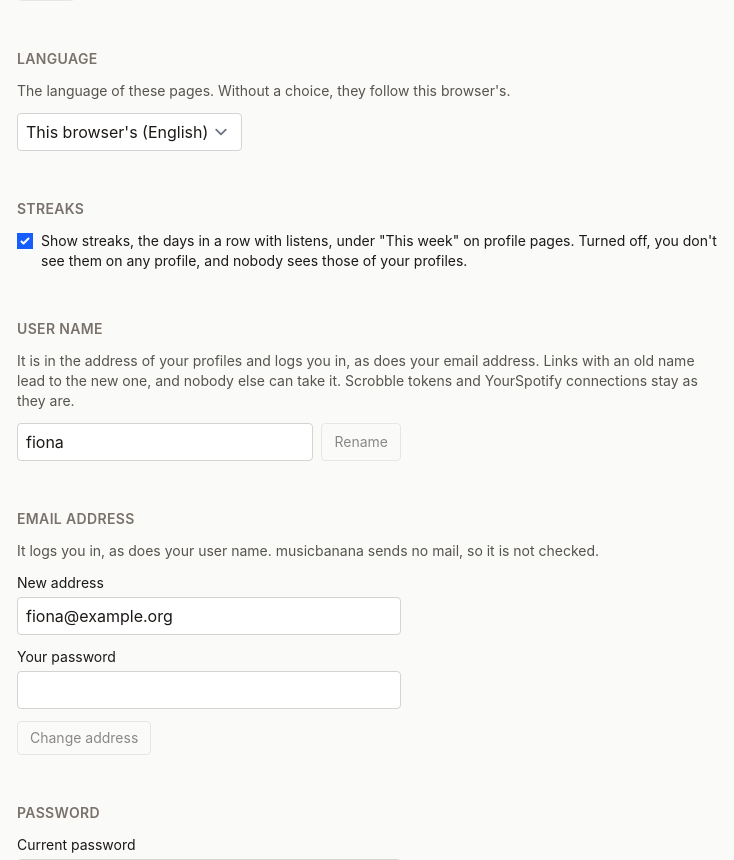
it: account › changes the user name
(page scrolled)
Expected: the button "Rename" is disabled, [322,423,401,461]
Replace the text in the field named "User name" with "fi": {"x": 165, "y": 442} [17,423,314,461]
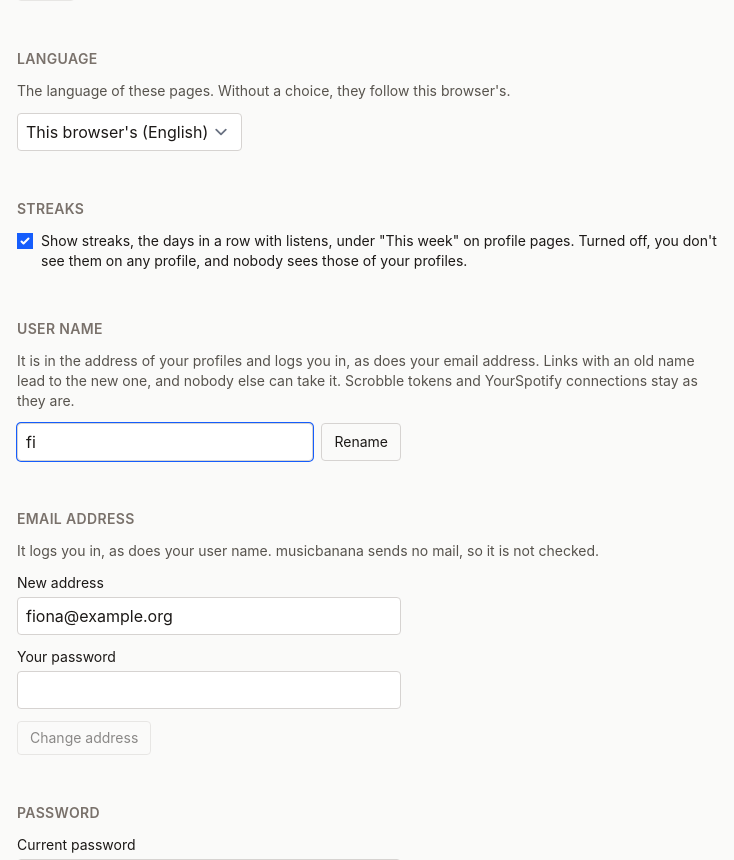
Click the button "Rename": {"x": 361, "y": 442} [322,423,401,461]
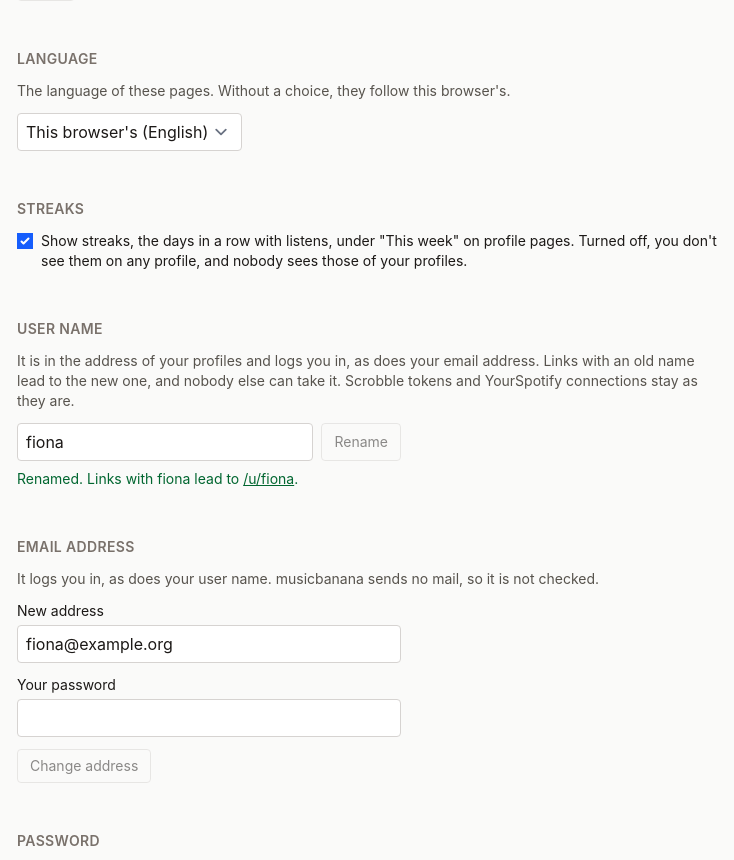
Expected: the message reads "Renamed. Links with fiona lead to /u/fiona .", [17,470,298,487]
